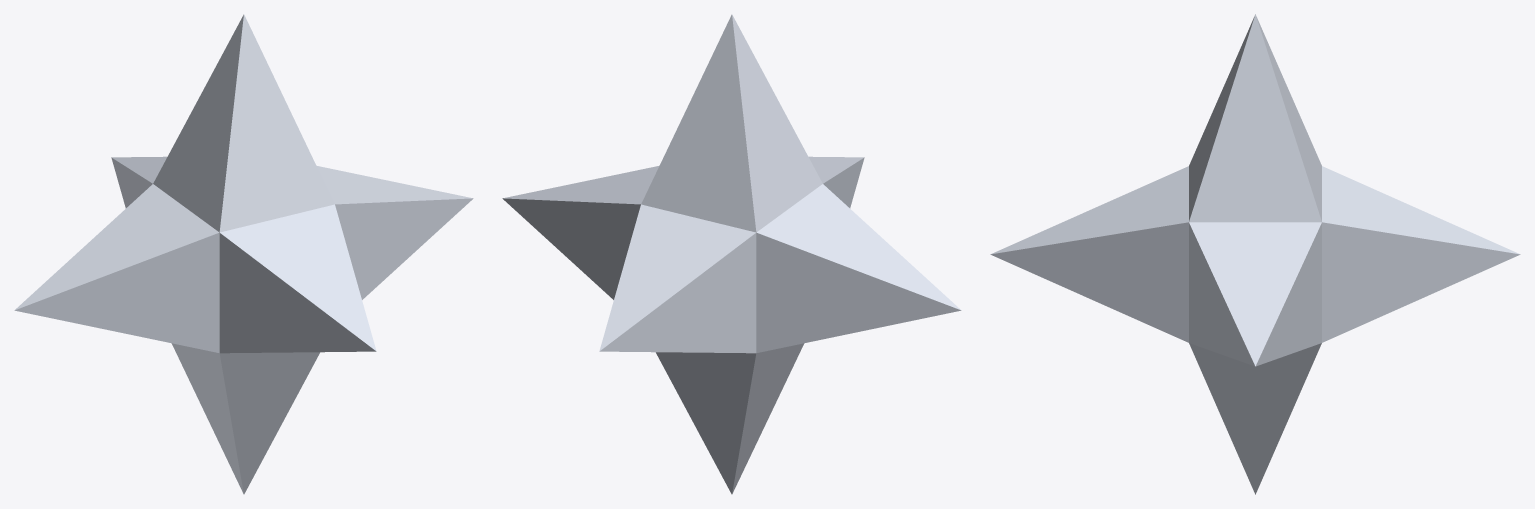
File: Spike A.fbx
The picture shows the model from 3 angles, left to right: view 1: azimuth 30°, elevation 25°; view 2: azimuth 150°, elevation 25°; view 3: azimuth 270°, elevation 25°; orthographic projection.
Visible parts, largest first — view 1: Spike A; view 2: Spike A; view 3: Spike A.
Boxes of the visible parts, x1,y1,x2,y2 form: Spike A: [14, 14, 473, 494]; Spike A: [502, 14, 961, 494]; Spike A: [990, 14, 1520, 494].
Size of the model in its own units: 128 by 128 by 128.
